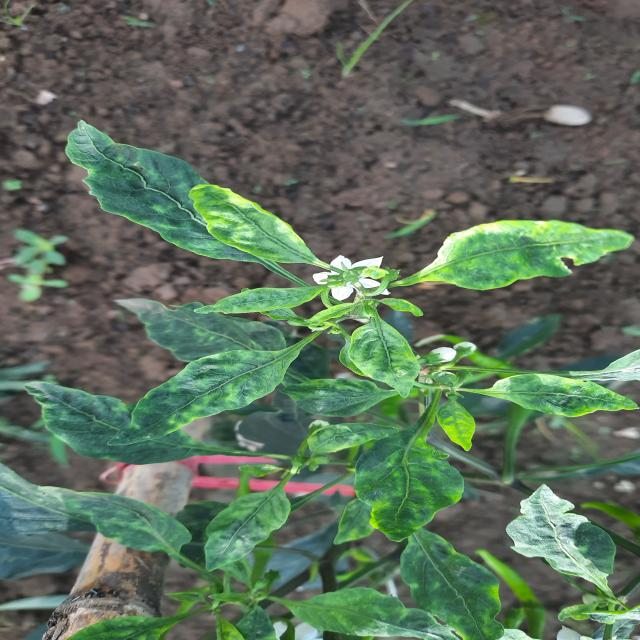thrips: (96, 349, 338, 435), (176, 181, 332, 267), (486, 486, 606, 596), (344, 446, 458, 552)
